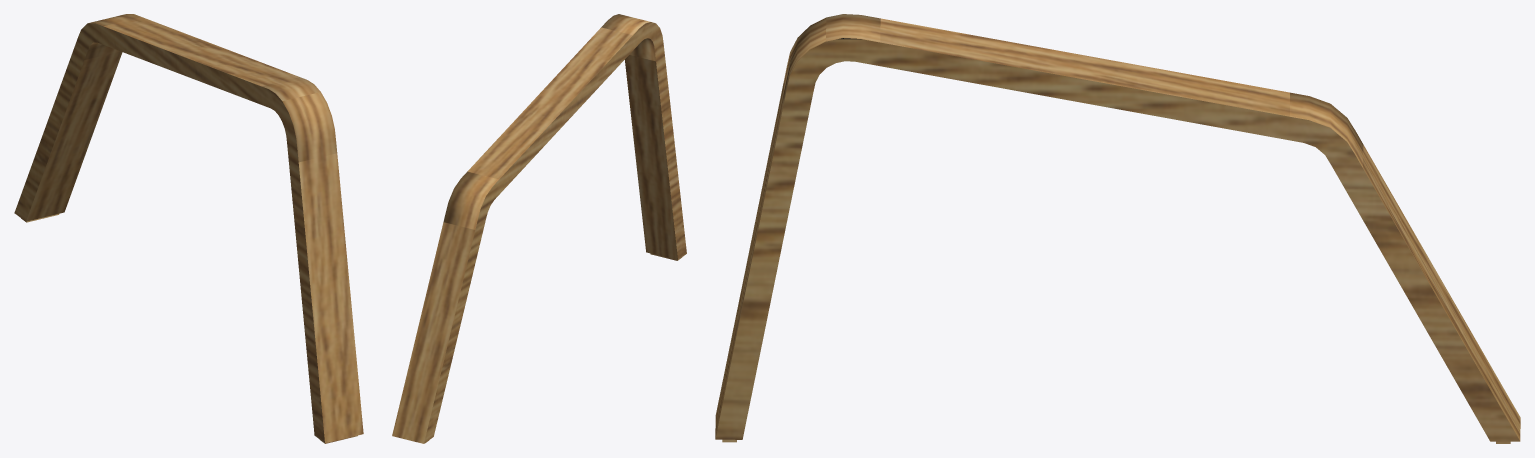
Rendered from nolmyraPiece2.dae.
3 views of the same model, side by side, from view 1: azimuth 30°, elevation 25°; view 2: azimuth 150°, elevation 25°; view 3: azimuth 270°, elevation 25° (orthographic). The views are drawn at different scales.
Visible parts, largest first — view 1: _0233532_NOLMYRA003; view 2: _0233532_NOLMYRA003; view 3: _0233532_NOLMYRA003.
Part boxes in pixels (x1=…): _0233532_NOLMYRA003: x1=14, y1=14, x2=363, y2=443; _0233532_NOLMYRA003: x1=392, y1=14, x2=686, y2=443; _0233532_NOLMYRA003: x1=715, y1=14, x2=1520, y2=443.
Bounding box in the file's own units: 0.0871 × 1.14 × 0.6363.
Materials: 1 (1 with a texture image).
